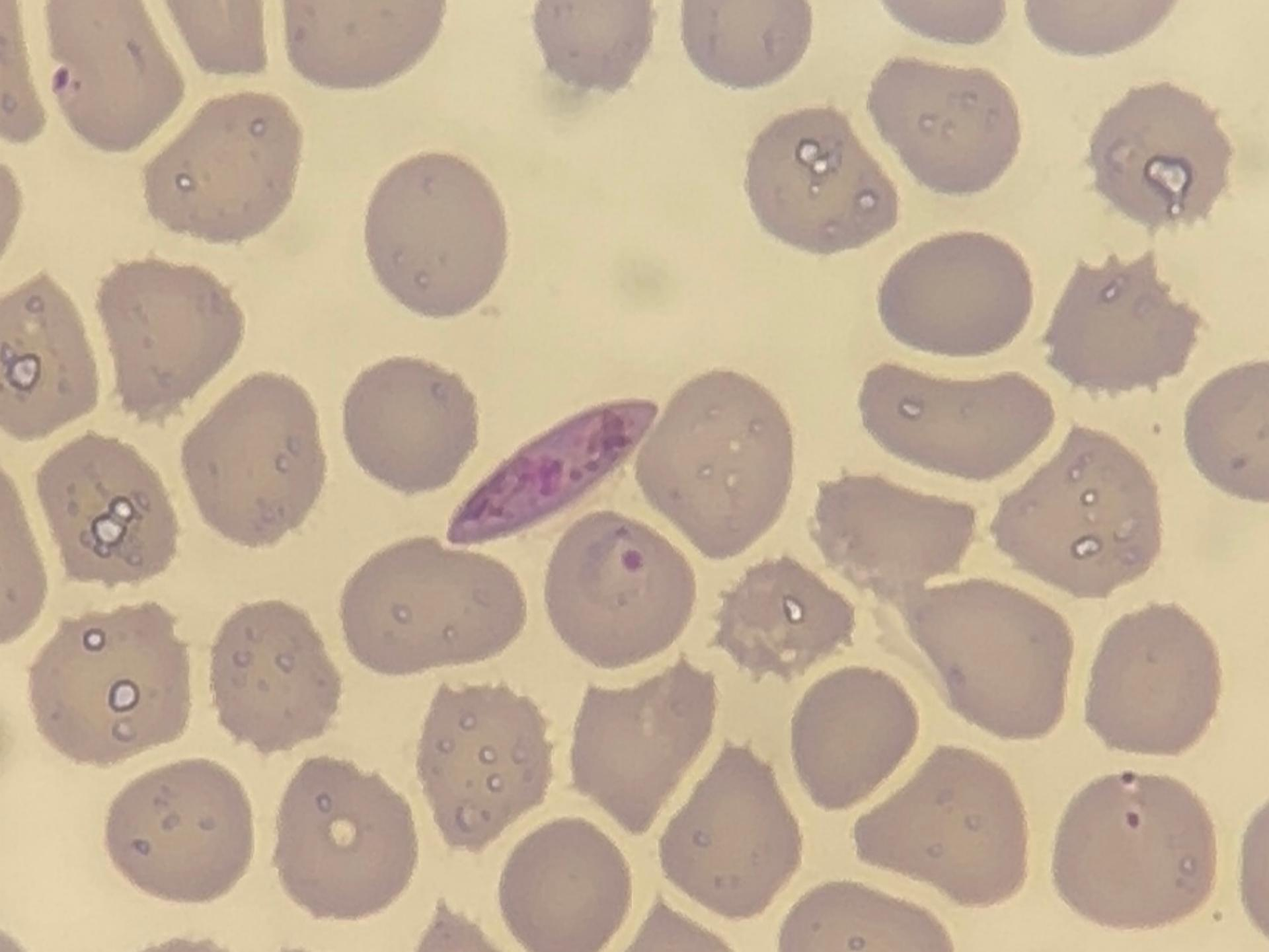Infected: (445, 397, 654, 544), (543, 511, 693, 668), (44, 1, 186, 152)
Uninfected: (636, 369, 795, 558), (855, 745, 1030, 911), (995, 427, 1161, 599), (903, 583, 1073, 742), (177, 372, 327, 549), (28, 604, 190, 767), (341, 536, 526, 677), (568, 662, 716, 836), (1052, 774, 1216, 931), (145, 91, 301, 246), (414, 679, 554, 851), (95, 260, 241, 424), (660, 747, 800, 918), (364, 151, 508, 316), (274, 758, 418, 921), (33, 430, 180, 589), (1042, 251, 1199, 396), (858, 361, 1049, 480), (747, 109, 900, 254), (866, 57, 1022, 198), (1087, 80, 1234, 229), (104, 757, 251, 904), (1084, 603, 1220, 756), (810, 472, 977, 596), (208, 600, 341, 754), (876, 232, 1034, 357), (342, 356, 479, 494), (790, 669, 916, 813), (496, 819, 630, 952), (711, 554, 851, 679), (0, 270, 98, 439), (281, 2, 441, 89), (1183, 360, 1269, 500), (779, 882, 951, 950), (682, 2, 806, 89), (532, 3, 652, 91), (414, 902, 506, 950)
